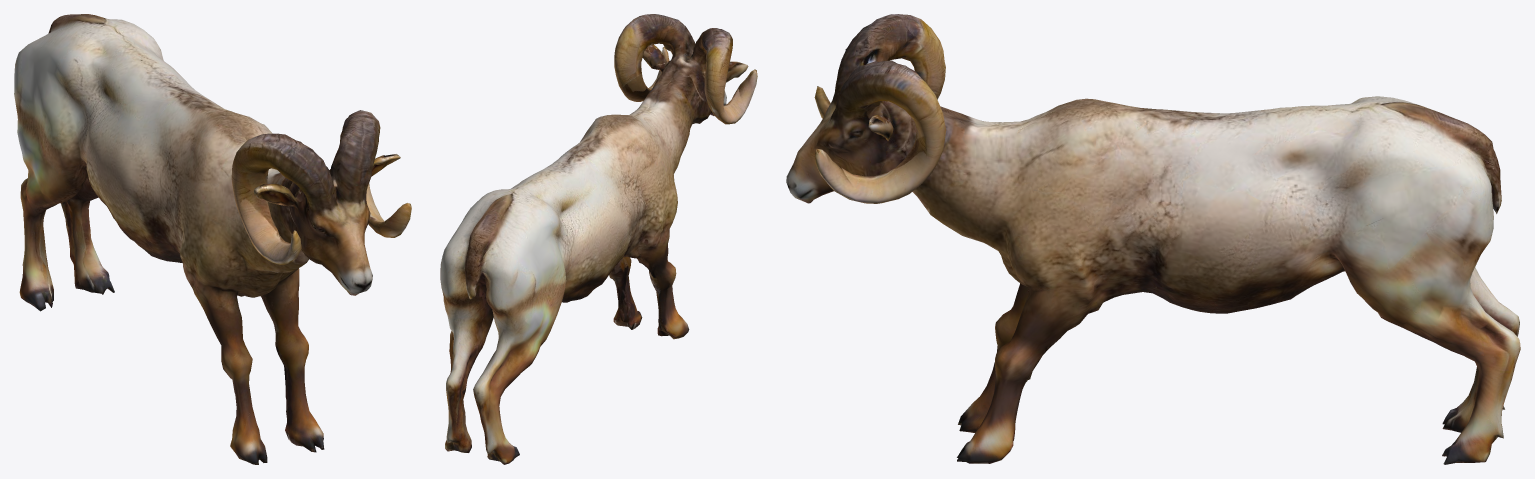
Rendered from Meshy_AI_bighorn_sheep_rams_0318050139_texture.glb.
3 views of the same model, side by side, from view 1: azimuth 30°, elevation 25°; view 2: azimuth 150°, elevation 25°; view 3: azimuth 270°, elevation 25° (orthographic). The views are drawn at different scales.
Size of the model in its own units: 0.5121 by 1.2 by 1.98.
1 material, 1 textured.
